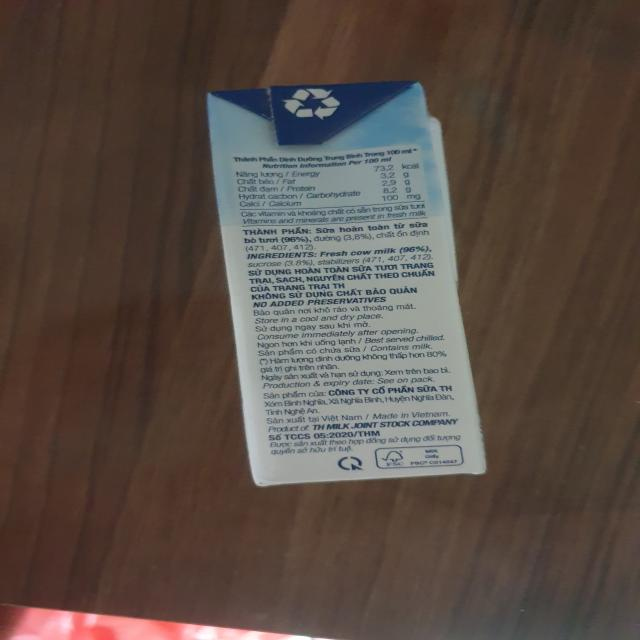TH: (183, 76, 495, 493)
